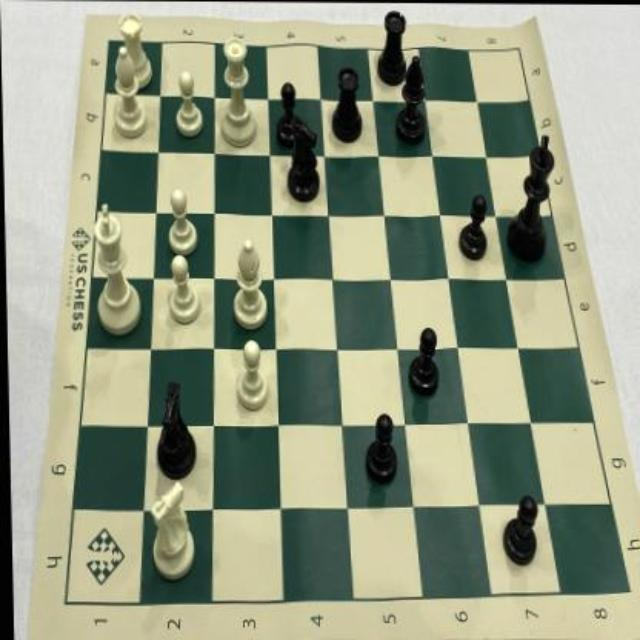black-bishop: (391, 52, 432, 148)
black-king: (500, 124, 558, 268)
black-knight: (148, 377, 204, 480), (281, 114, 328, 209)
black-pawn: (358, 402, 400, 489), (495, 488, 539, 571), (403, 317, 441, 401), (456, 188, 489, 264), (271, 76, 303, 148)
black-rook: (326, 60, 366, 147), (373, 3, 411, 89)
white-bishop: (223, 230, 272, 333), (103, 45, 153, 143)
white-king: (87, 198, 145, 339)
white-knight: (142, 474, 197, 587)
white-pawn: (228, 336, 272, 423), (159, 248, 205, 328), (170, 63, 208, 141), (159, 185, 200, 257)
white-queen: (212, 30, 262, 154)
white-rook: (112, 10, 158, 102)
